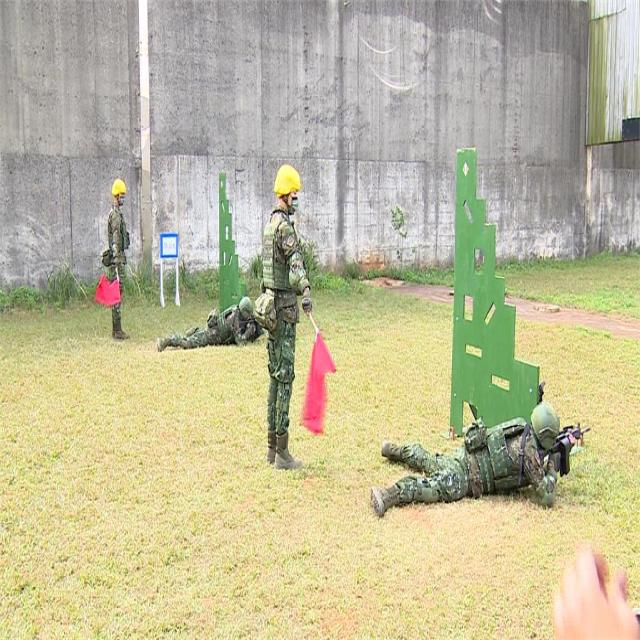lie: (367, 409, 602, 526), (156, 296, 270, 360)
stand: (253, 160, 306, 463), (104, 173, 137, 344)
